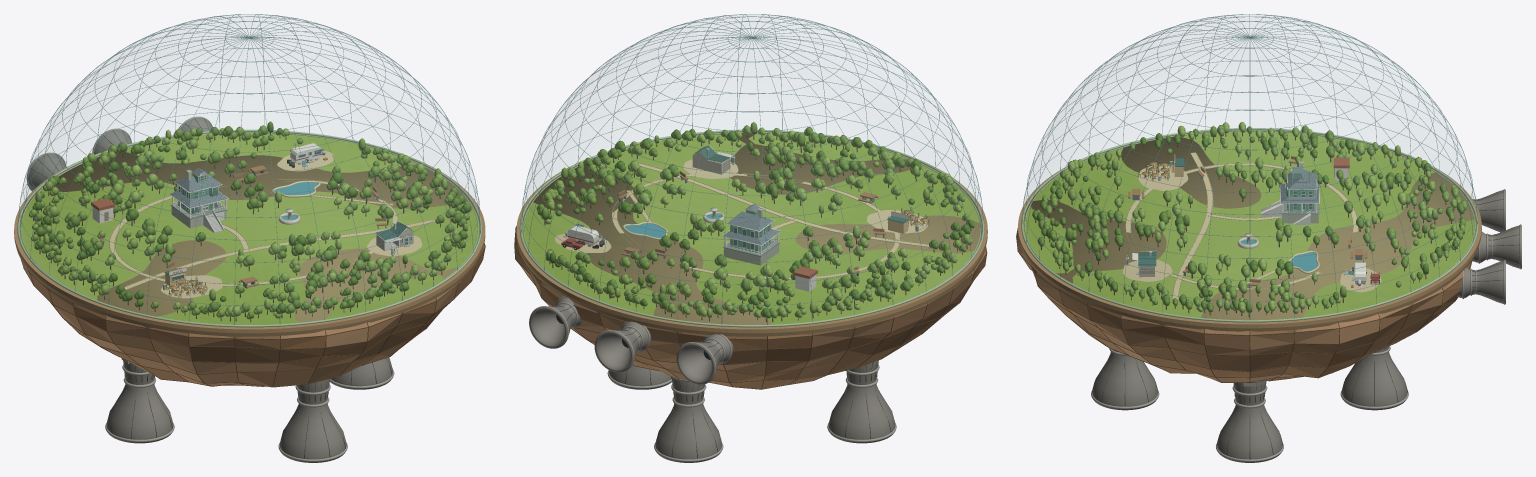
The model's file is regularshow_space_dome_planet_near.glb.
The picture shows the model from 3 angles, left to right: view 1: azimuth 30°, elevation 25°; view 2: azimuth 150°, elevation 25°; view 3: azimuth 270°, elevation 25°; orthographic projection.
Visible parts, largest first — view 1: DOMO | Hemisferio de vidrio transparente, DOMO | Suelo verde del parque, DOMO | Copas de 340 arboles del parque, DOMO | Casco rocoso escalonado, DOMO | Meridianos y paralelos de la cupula, DOMO | Espesor del terreno, DOMO | Cuatro campanas y cuellos de propulsion, DOMO | Cinturon superior de tierra, DOMO | Grietas y divisiones de los bloques, DOMO | Anillo sellado del hemisferio, DOMO | Setos y arbustos bajos, DOMO | Red de senderos curvos (+15 smaller); view 2: DOMO | Hemisferio de vidrio transparente, DOMO | Suelo verde del parque, DOMO | Copas de 340 arboles del parque, DOMO | Meridianos y paralelos de la cupula, DOMO | Casco rocoso escalonado, DOMO | Espesor del terreno, DOMO | Cuatro campanas y cuellos de propulsion, DOMO | Cinturon superior de tierra, DOMO | Grietas y divisiones de los bloques, DOMO | Anillo sellado del hemisferio, DOMO | Setos y arbustos bajos, DOMO | Motor trasero izquierdo | Campana hueca (+15 smaller); view 3: DOMO | Hemisferio de vidrio transparente, DOMO | Suelo verde del parque, DOMO | Copas de 340 arboles del parque, DOMO | Casco rocoso escalonado, DOMO | Meridianos y paralelos de la cupula, DOMO | Espesor del terreno, DOMO | Cuatro campanas y cuellos de propulsion, DOMO | Cinturon superior de tierra, DOMO | Grietas y divisiones de los bloques, DOMO | Anillo sellado del hemisferio, DOMO | Red de senderos curvos, DOMO | Setos y arbustos bajos (+13 smaller).
Part boxes in pixels (x1=…): DOMO | Hemisferio de vidrio transparente: x1=19, y1=15, x2=478, y2=217; DOMO | Suelo verde del parque: x1=20, y1=133, x2=479, y2=324; DOMO | Copas de 340 arboles del parque: x1=29, y1=121, x2=471, y2=319; DOMO | Casco rocoso escalonado: x1=21, y1=244, x2=484, y2=386; DOMO | Meridianos y paralelos de la cupula: x1=18, y1=14, x2=480, y2=324; DOMO | Espesor del terreno: x1=20, y1=152, x2=479, y2=322; DOMO | Cuatro campanas y cuellos de propulsion: x1=106, y1=357, x2=392, y2=462; DOMO | Cinturon superior de tierra: x1=14, y1=153, x2=485, y2=336; DOMO | Grietas y divisiones de los bloques: x1=21, y1=243, x2=485, y2=387; DOMO | Anillo sellado del hemisferio: x1=17, y1=129, x2=482, y2=327; DOMO | Setos y arbustos bajos: x1=31, y1=135, x2=457, y2=318; DOMO | Red de senderos curvos: x1=110, y1=180, x2=435, y2=289; DOMO | Hemisferio de vidrio transparente: x1=523, y1=15, x2=982, y2=217; DOMO | Suelo verde del parque: x1=522, y1=133, x2=981, y2=324; DOMO | Copas de 340 arboles del parque: x1=536, y1=122, x2=974, y2=318; DOMO | Meridianos y paralelos de la cupula: x1=521, y1=14, x2=983, y2=324; DOMO | Casco rocoso escalonado: x1=515, y1=227, x2=986, y2=388; DOMO | Espesor del terreno: x1=522, y1=133, x2=981, y2=324; DOMO | Cuatro campanas y cuellos de propulsion: x1=609, y1=361, x2=895, y2=462; DOMO | Cinturon superior de tierra: x1=516, y1=151, x2=987, y2=336; DOMO | Grietas y divisiones de los bloques: x1=514, y1=226, x2=987, y2=389; DOMO | Anillo sellado del hemisferio: x1=519, y1=129, x2=984, y2=327; DOMO | Setos y arbustos bajos: x1=540, y1=138, x2=949, y2=315; DOMO | Motor trasero izquierdo | Campana hueca: x1=677, y1=334, x2=733, y2=383; DOMO | Hemisferio de vidrio transparente: x1=1023, y1=15, x2=1476, y2=213; DOMO | Suelo verde del parque: x1=1023, y1=131, x2=1475, y2=317; DOMO | Copas de 340 arboles del parque: x1=1032, y1=122, x2=1467, y2=312; DOMO | Casco rocoso escalonado: x1=1016, y1=231, x2=1472, y2=382; DOMO | Meridianos y paralelos de la cupula: x1=1022, y1=14, x2=1477, y2=319; DOMO | Espesor del terreno: x1=1023, y1=131, x2=1476, y2=320; DOMO | Cuatro campanas y cuellos de propulsion: x1=1092, y1=346, x2=1407, y2=462; DOMO | Cinturon superior de tierra: x1=1018, y1=149, x2=1481, y2=331; DOMO | Grietas y divisiones de los bloques: x1=1016, y1=228, x2=1472, y2=382; DOMO | Anillo sellado del hemisferio: x1=1021, y1=128, x2=1478, y2=322; DOMO | Red de senderos curvos: x1=1126, y1=152, x2=1357, y2=299; DOMO | Setos y arbustos bajos: x1=1050, y1=136, x2=1456, y2=313.
Bounding box in the file's own units: 32.42 × 27.66 × 35.23.
